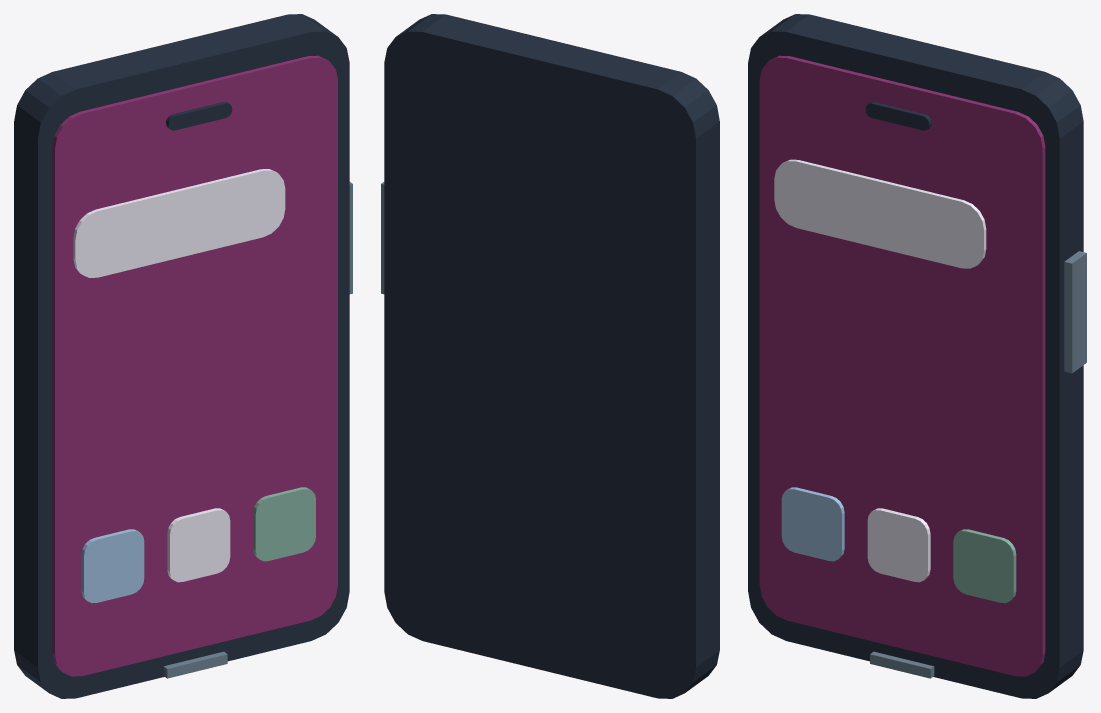
File: phone.glb
3 renders of one model, left to right at view 1: azimuth 30°, elevation 25°; view 2: azimuth 150°, elevation 25°; view 3: azimuth 330°, elevation 25°, orthographic.
Parts seen in each view (by area): view 1: screen, case, widget, app 1, app 0, app 2, earpiece, port; view 2: case; view 3: screen, case, widget, app 0, app 1, app 2, side switch, earpiece, port.
Part boxes in pixels (x1,y1,x2,y2): screen: (52,55,337,676); case: (14,14,349,698); widget: (73,169,285,277); app 1: (167,508,230,582); app 0: (81,529,144,603); app 2: (253,487,315,561); earpiece: (166,101,232,130); port: (163,651,227,678); case: (384,14,719,698); screen: (759,55,1045,676); case: (748,14,1083,698); widget: (774,159,986,268); app 0: (781,487,844,561); app 1: (867,508,930,582); app 2: (953,529,1016,603); side switch: (1064,251,1086,373); earpiece: (865,101,931,130); port: (870,651,934,678).
Size of the model in its own units: 1 by 1.83 by 0.166.
